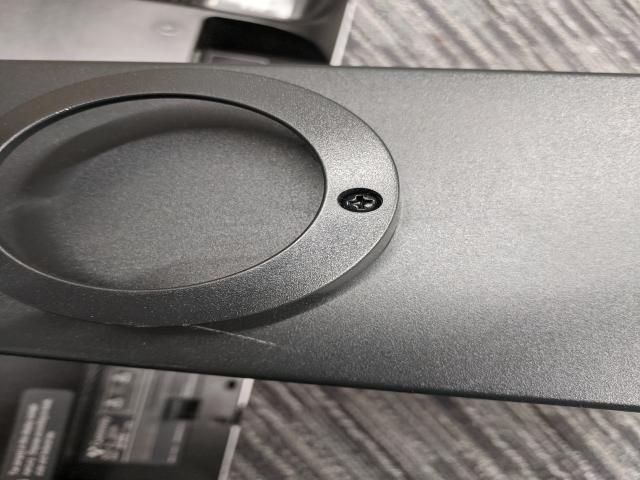CRS: (336, 187, 382, 212)
